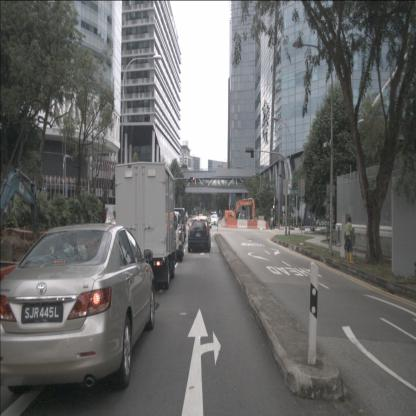human-pedestrian-adult: (344, 217, 355, 264), (101, 204, 107, 236), (185, 209, 188, 225)
movable_object-barrier: (225, 218, 237, 229), (247, 219, 258, 229), (237, 219, 248, 228), (257, 220, 266, 229)
vehicle-car: (1, 223, 155, 391), (156, 210, 183, 262), (188, 216, 211, 252), (211, 215, 218, 225)
vehicle-truck: (115, 162, 176, 289), (165, 207, 186, 244)
